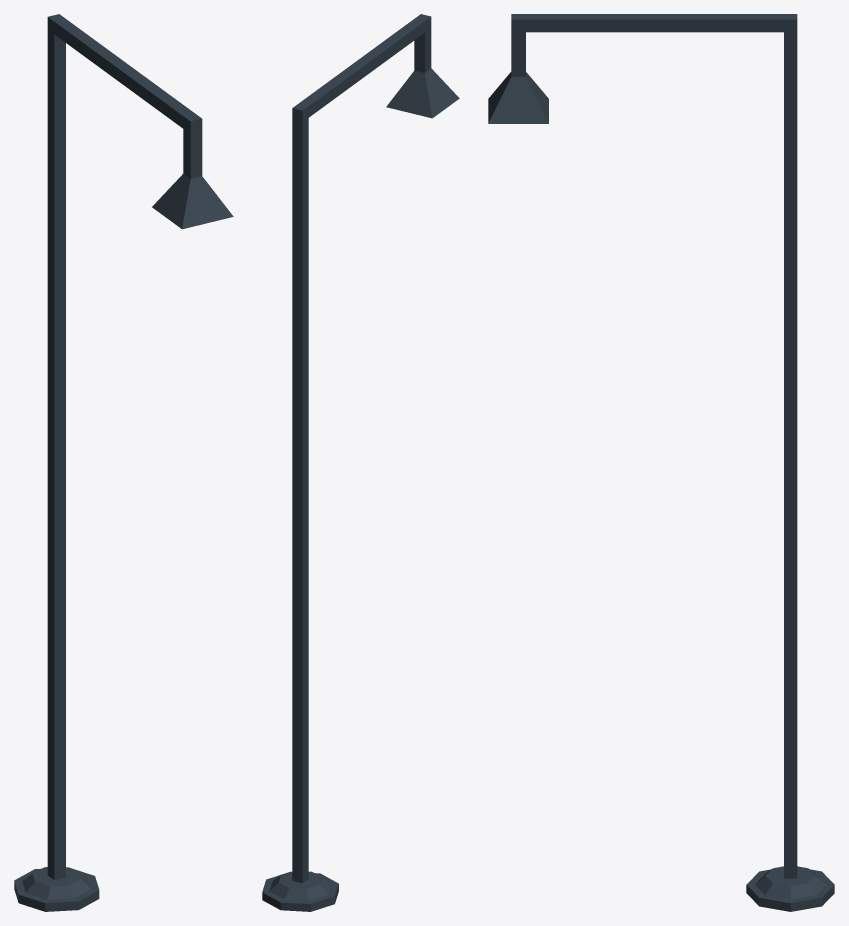
Rendered from city_light.fbx.
3 views of the same model, side by side, from view 1: azimuth 30°, elevation 25°; view 2: azimuth 150°, elevation 25°; view 3: azimuth 270°, elevation 25° (orthographic). The views are drawn at different scales.
Visible parts, largest first — view 1: city_light; view 2: city_light; view 3: city_light.
Boxes of the visible parts, left/top/right/bottom form: city_light: left=14, top=14, right=233, bottom=911; city_light: left=262, top=14, right=459, bottom=911; city_light: left=488, top=14, right=834, bottom=911.
Size of the model in its own units: 92 by 1008 by 361.
1 material, 1 textured.
